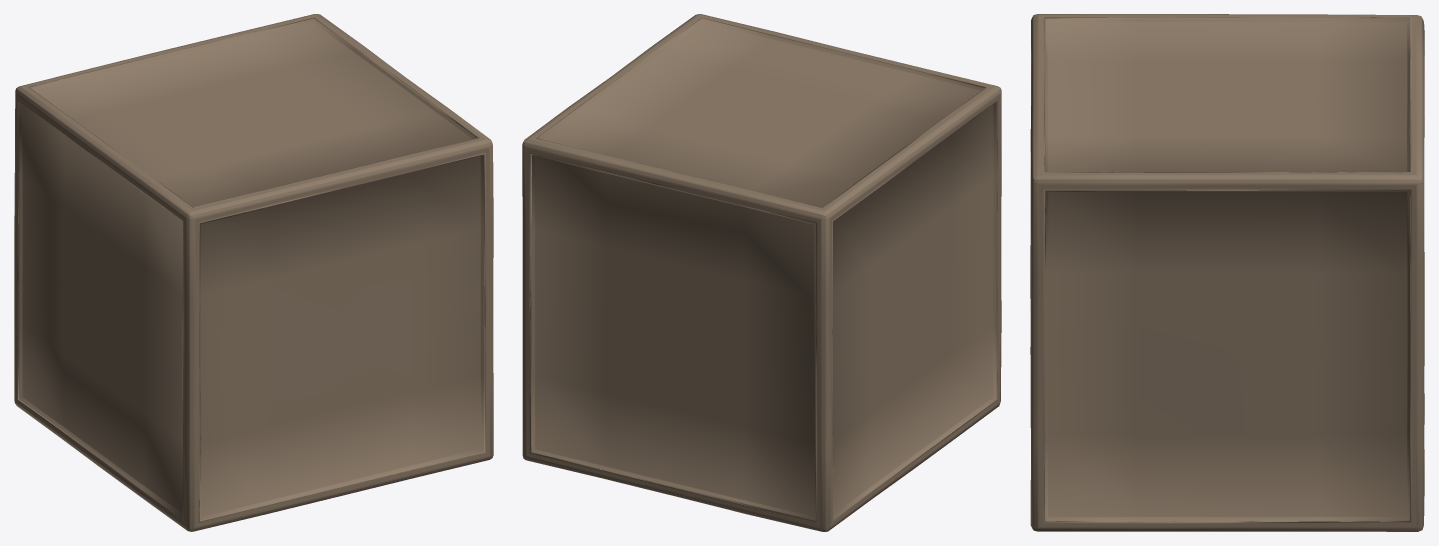
Rendered from floor_1.fbx.
3 views of the same model, side by side, from view 1: azimuth 30°, elevation 25°; view 2: azimuth 150°, elevation 25°; view 3: azimuth 270°, elevation 25° (orthographic). The views are drawn at different scales.
Visible parts, largest first — view 1: floor_1; view 2: floor_1; view 3: floor_1.
Boxes of the visible parts, <box> form: floor_1: <box>14,14,493,531</box>; floor_1: <box>522,14,1001,531</box>; floor_1: <box>1030,14,1424,531</box>.
Size of the model in its own units: 100 by 100 by 100.
